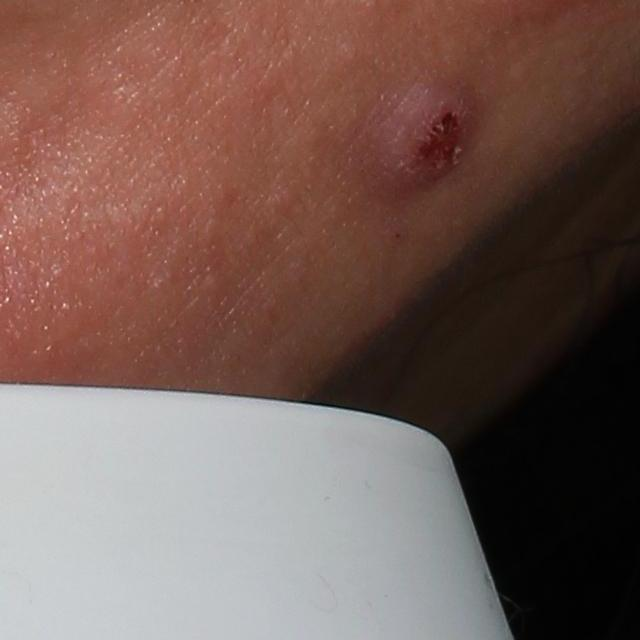nodule: (353, 59, 482, 204)
